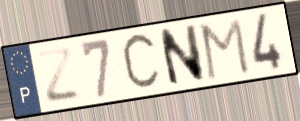4: (249, 11, 284, 74)
7: (78, 38, 114, 101)
C: (119, 29, 163, 95)
M: (199, 16, 252, 83)
N: (156, 22, 208, 89)
Z: (34, 46, 82, 106)
